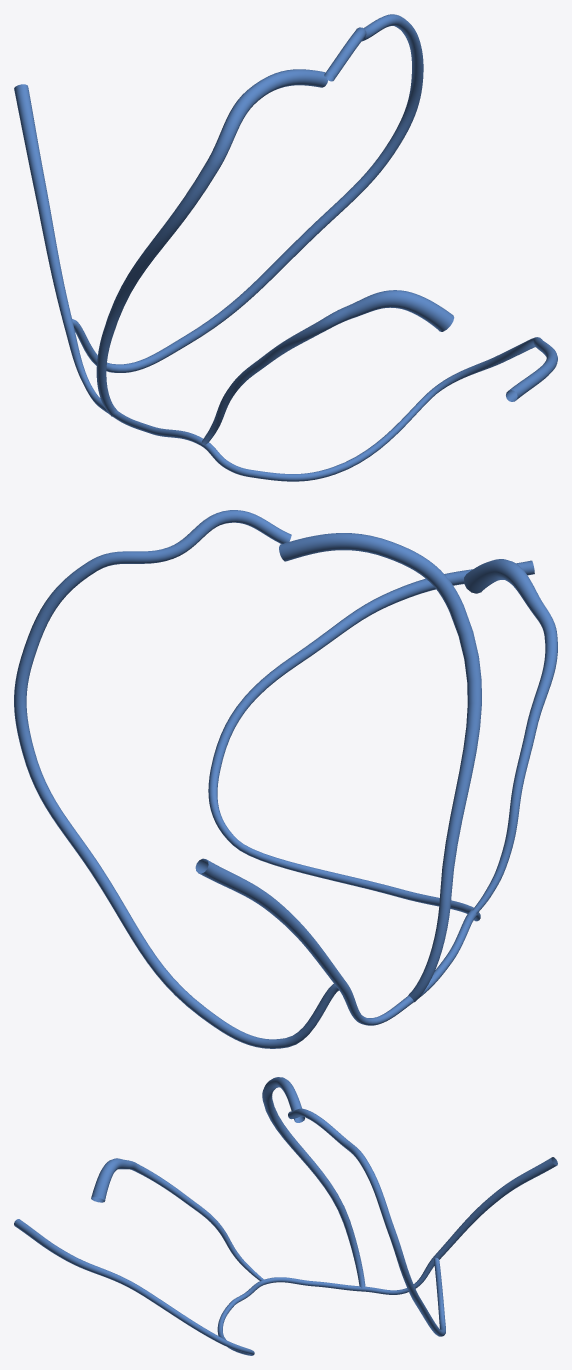
3 views of the same model, one above another, from view 1: azimuth 30°, elevation 25°; view 2: azimuth 150°, elevation 25°; view 3: azimuth 270°, elevation 25° (orthographic). The views are drawn at different scales.
Parts seen in each view (by area): view 1: 右侧膝静脉; view 2: 右侧膝静脉; view 3: 右侧膝静脉.
Part boxes in pixels (<box>): 右侧膝静脉: <box>14,14,557,481</box>; 右侧膝静脉: <box>14,510,557,1048</box>; 右侧膝静脉: <box>14,1077,557,1355</box>.
Size of the model in its own units: 0.1247 by 0.1275 by 0.2426.
